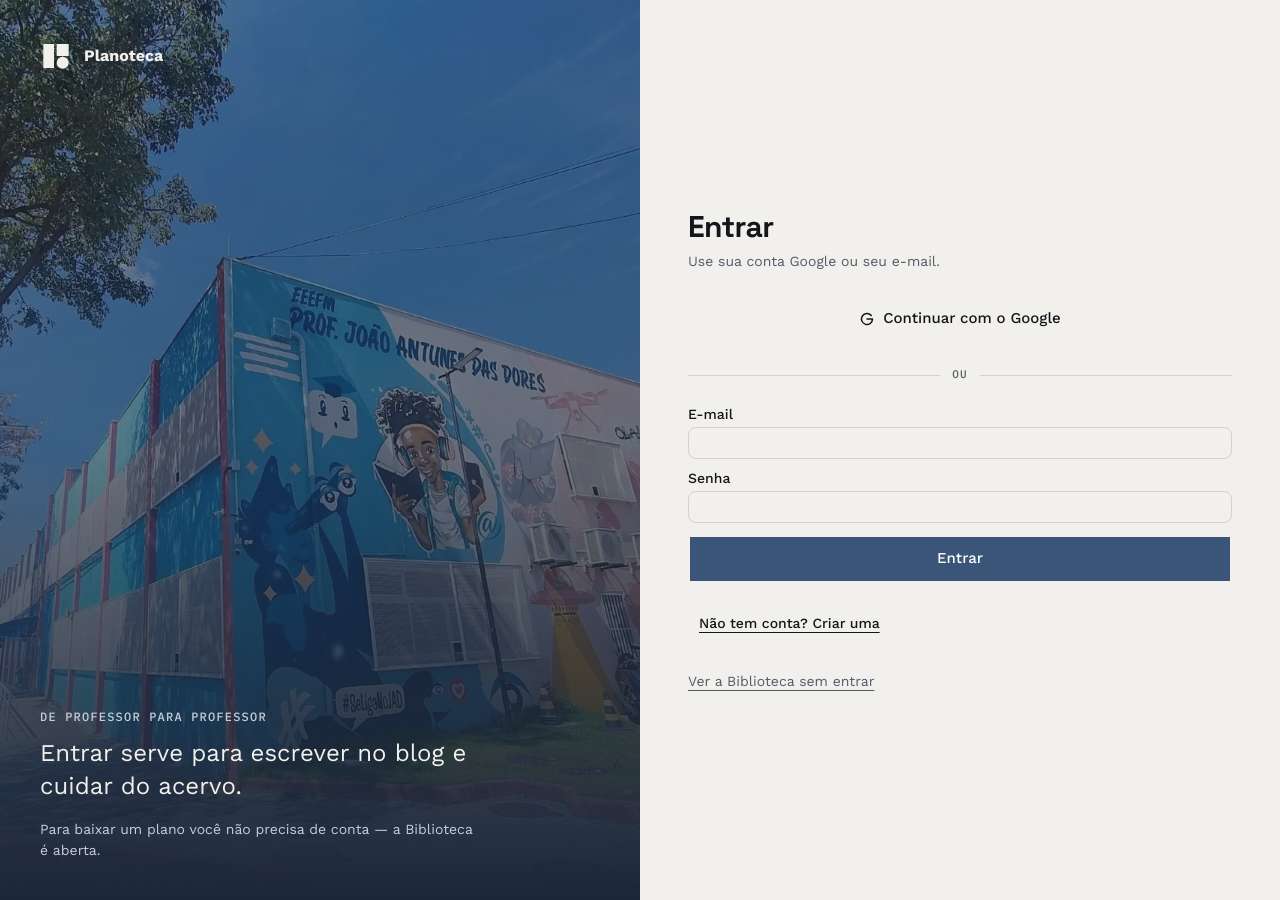
Test: PaginaEntrar › traduz o erro do Firebase em vez de mostrar o código
This screenshot has width=1280, height=900.
Type "ana@escola.test" into the field labelled "E-mail".
click(960, 443); type("ana@escola.test")  # box x1=688 y1=427 x2=1232 y2=459
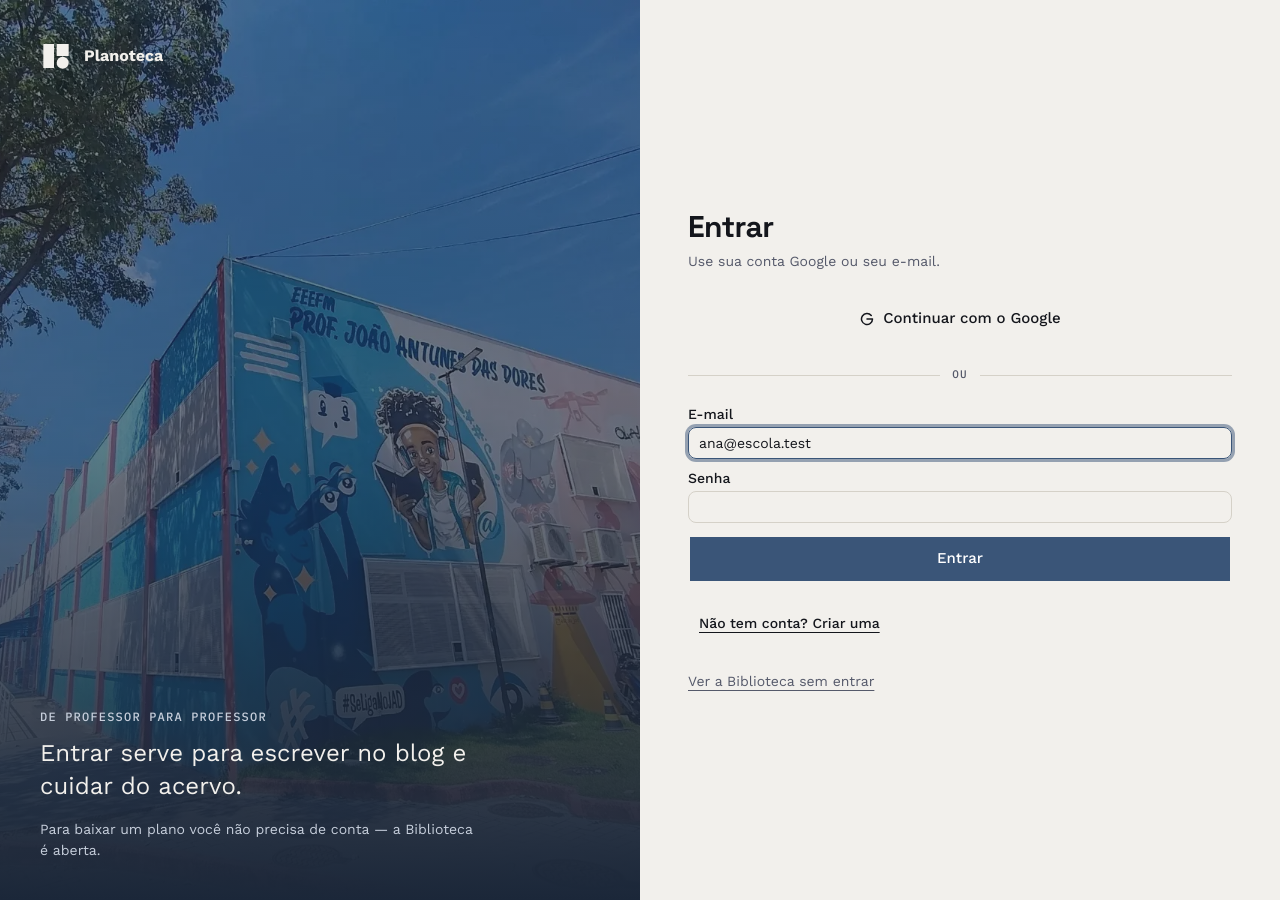
Type "errada" into the password field labelled "Senha".
click(960, 507); type("errada")  # box x1=688 y1=491 x2=1232 y2=523
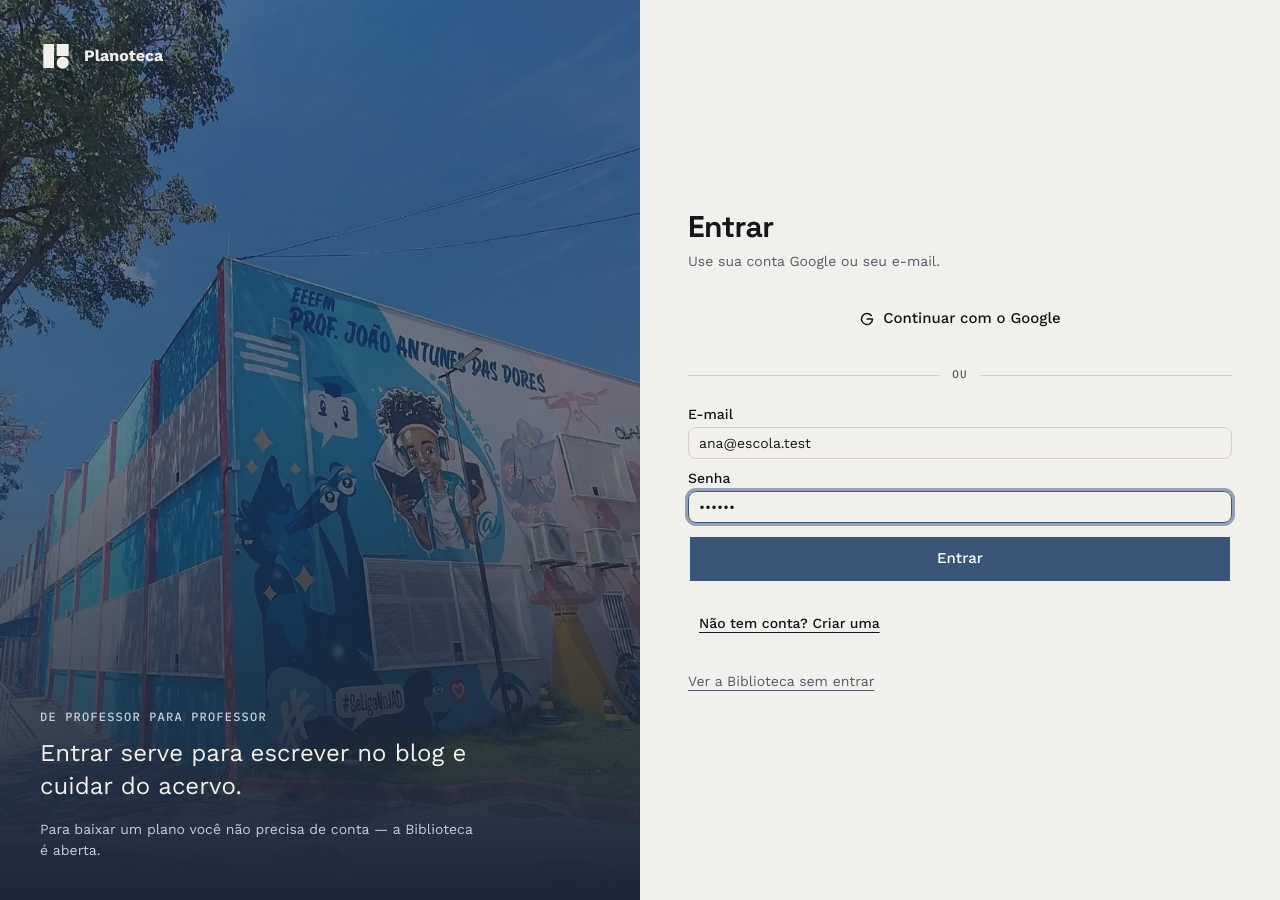
Click the button "Entrar".
click(960, 559)  # box x1=688 y1=535 x2=1232 y2=583
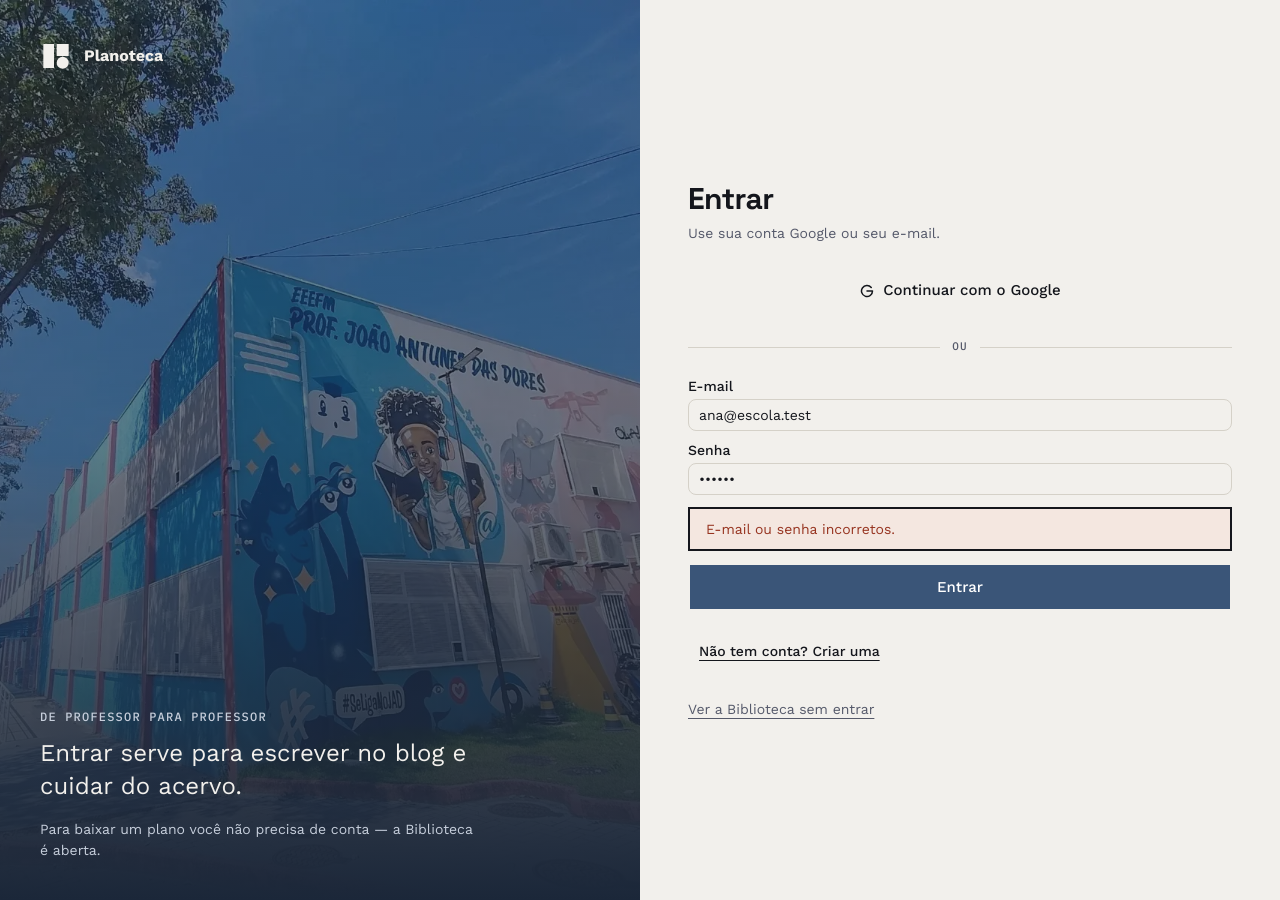
Now the message reads "E-mail ou senha incorretos.", box x1=706 y1=521 x2=895 y2=537
